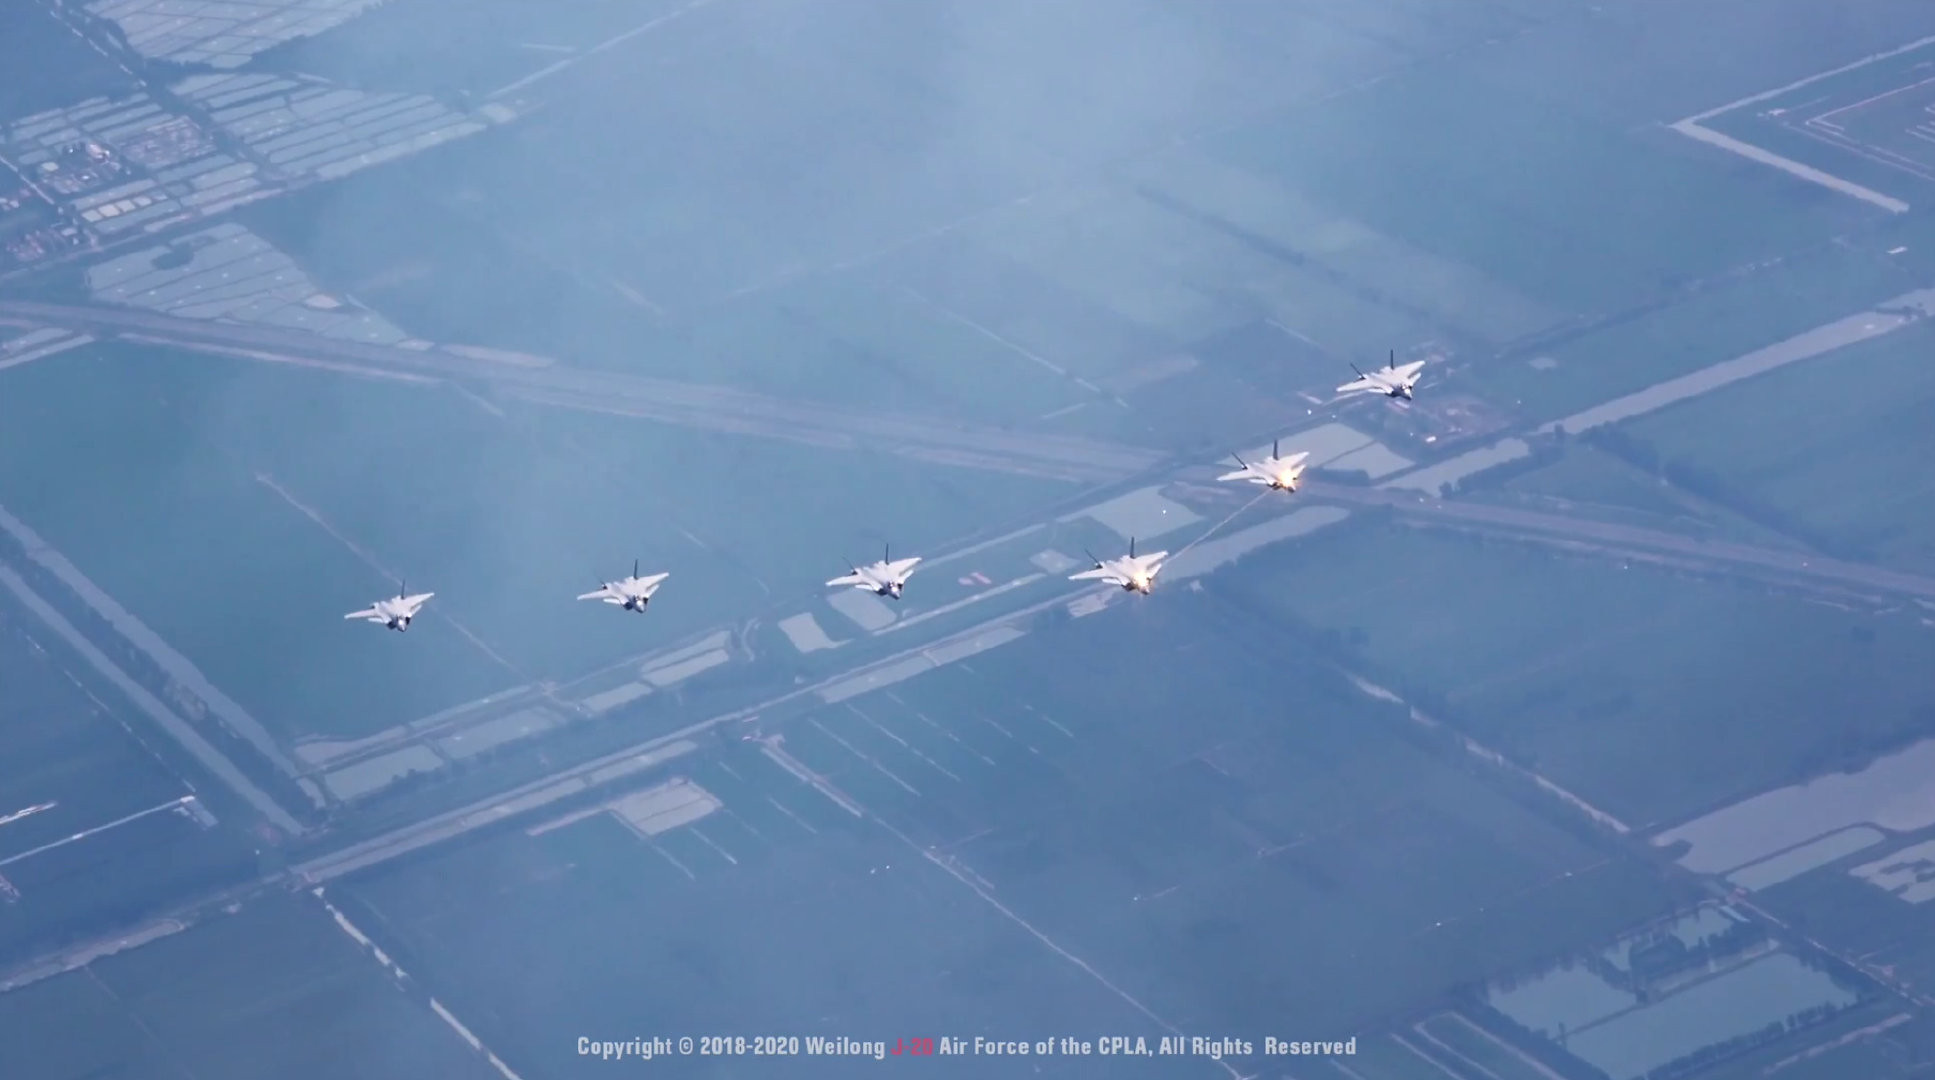J20: (1066, 535, 1170, 596), (824, 542, 924, 600), (575, 558, 671, 614), (1215, 438, 1310, 494), (343, 577, 436, 634), (1334, 348, 1427, 401)
